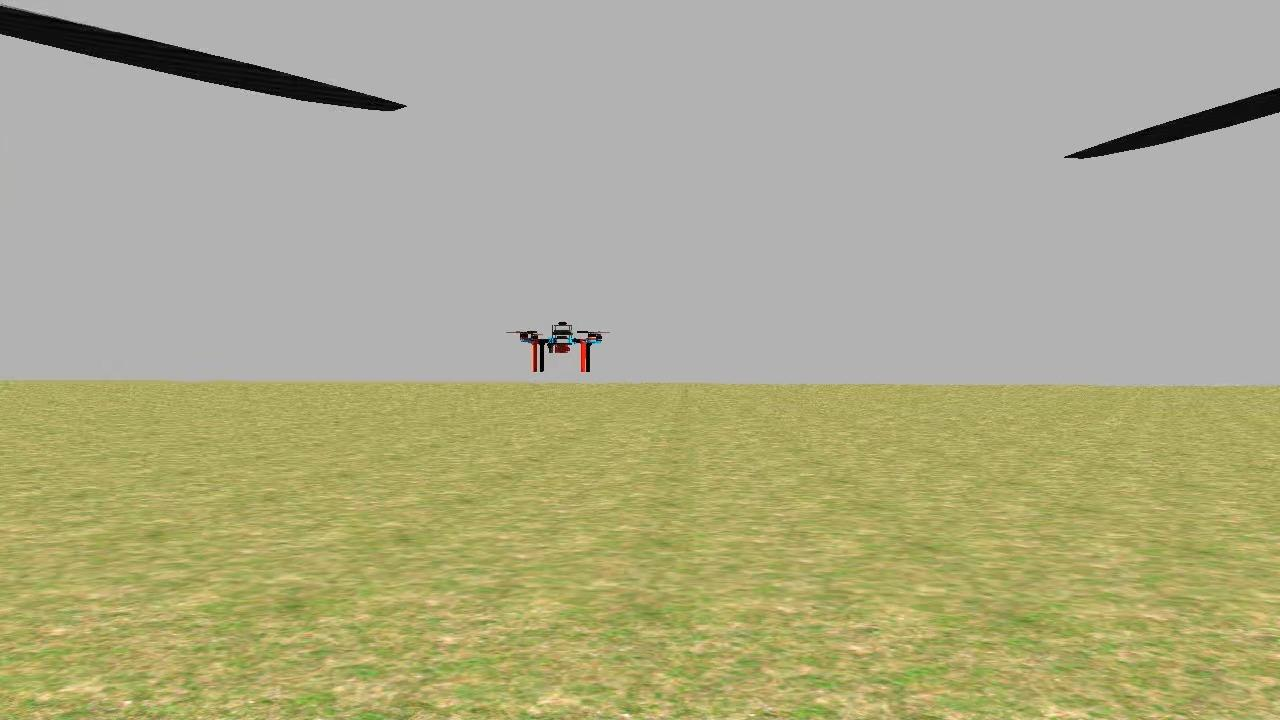UAV: (510, 314, 609, 378)
